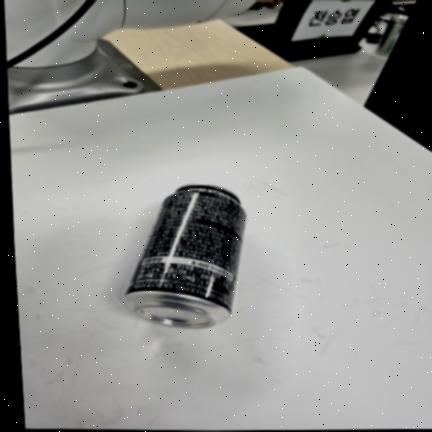can_pepsi_zero: (124, 184, 245, 328)
